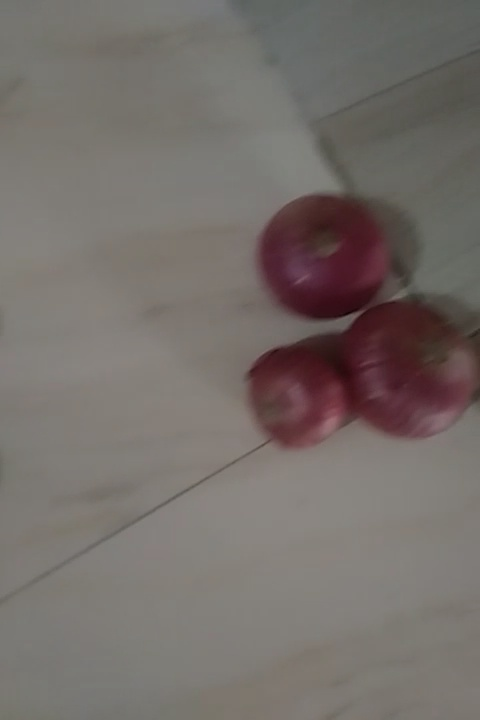onion: (354, 300, 480, 441), (258, 199, 392, 320), (249, 338, 350, 448)
